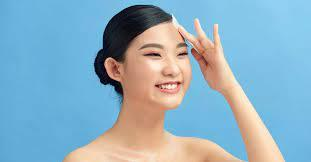Oily-Skin: (130, 59, 158, 91), (153, 30, 180, 41), (160, 95, 180, 108), (167, 56, 179, 75)
